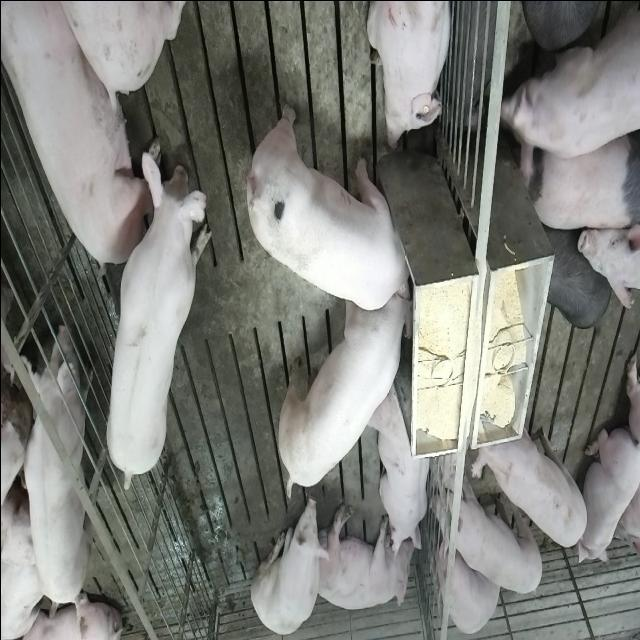Feeding: (248, 100, 421, 310), (274, 280, 410, 500)
Lateral_lying: (313, 502, 416, 612)
Sitting: (250, 492, 330, 636)
Standing: (102, 145, 208, 489), (10, 300, 99, 616), (498, 0, 638, 182), (471, 404, 589, 550), (432, 476, 542, 594), (525, 127, 637, 236), (542, 222, 610, 329), (524, 0, 610, 50)
Sternal_lying: (364, 0, 453, 150), (370, 379, 433, 555), (579, 418, 638, 568)
